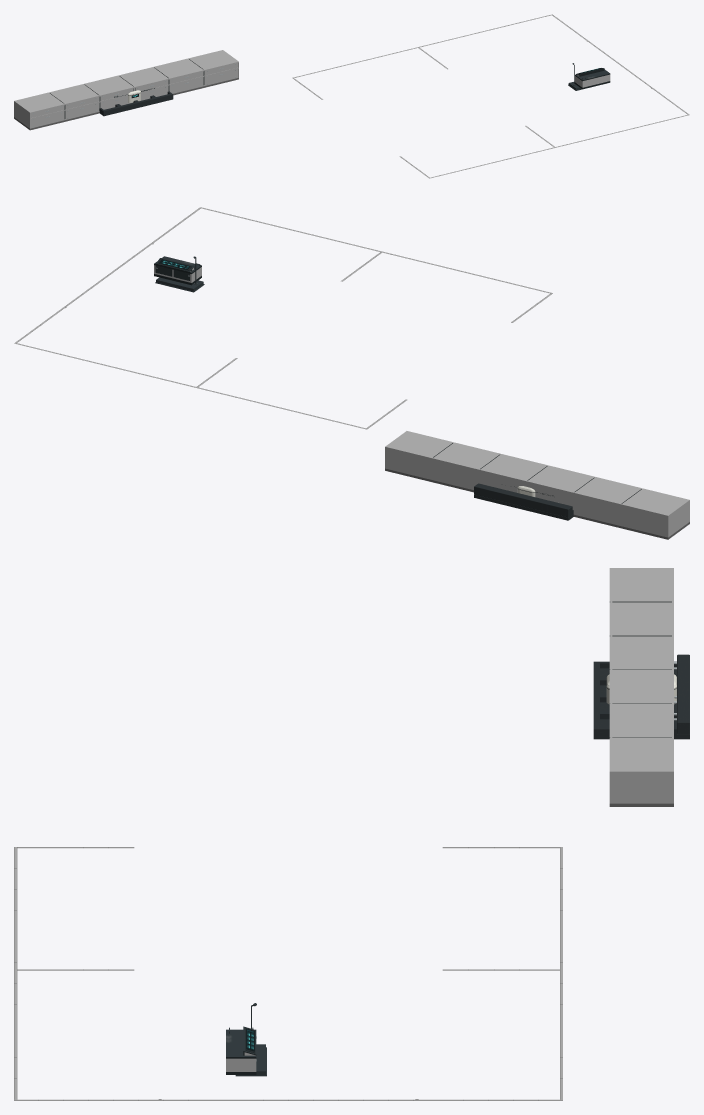
File: equipment.glb
3 views of the same model, one above another, from view 1: azimuth 30°, elevation 25°; view 2: azimuth 150°, elevation 25°; view 3: azimuth 270°, elevation 25° (orthographic). The views are drawn at different scales.
Visible parts, largest first — view 1: roof, panel_4, panel_0, panel_5, panel_1, header_north, header_south, deck_plinth, carrier_working_toe_face, panel_3, end_-9.335, wall_channel; view 2: back_wall (×2), roof, carrier_rear_manifold, header_north, header_south, deck_plinth, end_-9.335; view 3: roof, end_9.335, wall_channel, carrier_rear_manifold, header_south.
Part boxes in pixels (bbox=[...]): roof: bbox=[16, 50, 238, 112]; panel_4: bbox=[169, 70, 203, 93]; panel_0: bbox=[29, 104, 64, 128]; panel_5: bbox=[204, 61, 237, 85]; panel_1: bbox=[64, 95, 99, 119]; header_north: bbox=[292, 15, 551, 78]; header_south: bbox=[429, 115, 688, 178]; deck_plinth: bbox=[14, 78, 238, 130]; carrier_working_toe_face: bbox=[102, 93, 173, 113]; panel_3: bbox=[134, 78, 169, 96]; end_-9.335: bbox=[14, 100, 30, 128]; wall_channel: bbox=[551, 14, 689, 115]; back_wall (×2): bbox=[385, 446, 668, 537]; roof: bbox=[385, 431, 689, 515]; carrier_rear_manifold: bbox=[474, 483, 572, 517]; header_north: bbox=[16, 343, 367, 429]; header_south: bbox=[201, 207, 552, 293]; deck_plinth: bbox=[385, 468, 689, 539]; end_-9.335: bbox=[667, 499, 689, 537]; roof: bbox=[609, 568, 673, 771]; end_9.335: bbox=[609, 771, 673, 803]; wall_channel: bbox=[14, 1099, 562, 1100]; carrier_rear_manifold: bbox=[677, 654, 689, 734]; header_south: bbox=[14, 847, 17, 1099].
Bounding box in the file's own units: 45.81 × 2.09 × 26.31.
8 materials, 4 textured.
